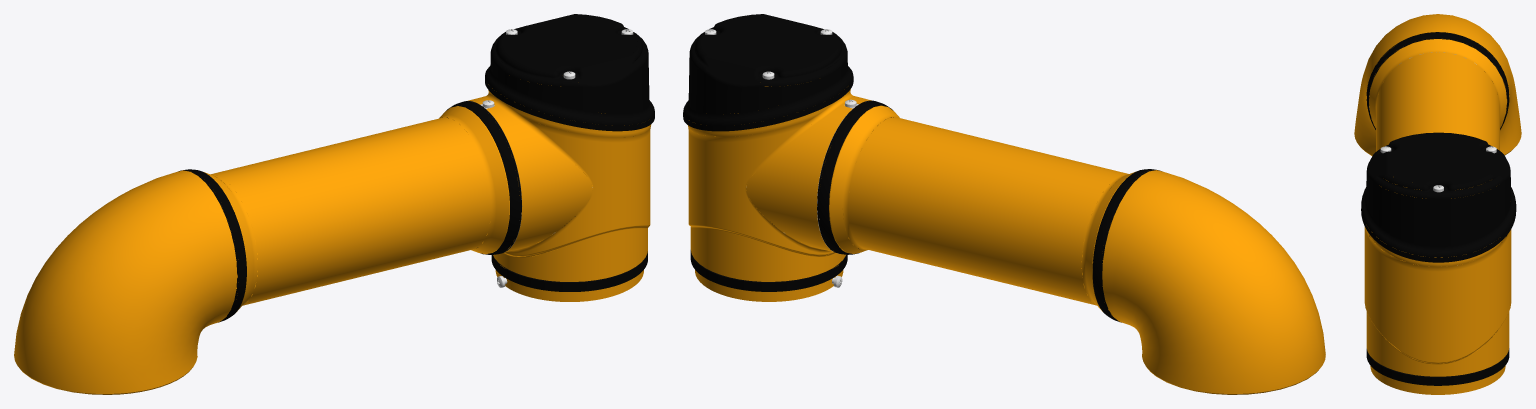
The model's file is foreArm_Link.DAE.
3 renders of one model, left to right at view 1: azimuth 30°, elevation 25°; view 2: azimuth 150°, elevation 25°; view 3: azimuth 270°, elevation 25°, orthographic. The views are drawn at different scales.
Parts seen in each view (by area): view 1: NONE-DC_Shell_ncl1_4, NONE-DC_Shell_ncl1_6, NONE-DC_Shell_ncl1_3, NONE-DC_Shell_ncl1_14, NONE-DC_Shell_ncl1_15, NONE-DC_Shell_ncl1_13, NONE-DC_Shell_ncl1_16, NONE-DC_Shell_ncl1_5; view 2: NONE-DC_Shell_ncl1_4, NONE-DC_Shell_ncl1_6, NONE-DC_Shell_ncl1_3, NONE-DC_Shell_ncl1_14, NONE-DC_Shell_ncl1_15, NONE-DC_Shell_ncl1_13, NONE-DC_Shell_ncl1_16, NONE-DC_Shell_ncl1_5; view 3: NONE-DC_Shell_ncl1_3, NONE-DC_Shell_ncl1_14, NONE-DC_Shell_ncl1_4, NONE-DC_Shell_ncl1_6, NONE-DC_Shell_ncl1_13, NONE-DC_Shell_ncl1_16, NONE-DC_Shell_ncl1_5.
Boxes of the visible parts, x1=… form: NONE-DC_Shell_ncl1_4: x1=204, y1=106, x2=509, y2=316; NONE-DC_Shell_ncl1_6: x1=14, y1=170, x2=237, y2=394; NONE-DC_Shell_ncl1_3: x1=454, y1=84, x2=651, y2=281; NONE-DC_Shell_ncl1_14: x1=485, y1=14, x2=654, y2=131; NONE-DC_Shell_ncl1_15: x1=442, y1=101, x2=521, y2=254; NONE-DC_Shell_ncl1_13: x1=491, y1=216, x2=647, y2=291; NONE-DC_Shell_ncl1_16: x1=178, y1=169, x2=246, y2=322; NONE-DC_Shell_ncl1_5: x1=495, y1=234, x2=643, y2=301; NONE-DC_Shell_ncl1_4: x1=829, y1=105, x2=1134, y2=314; NONE-DC_Shell_ncl1_6: x1=1102, y1=170, x2=1325, y2=394; NONE-DC_Shell_ncl1_3: x1=688, y1=84, x2=885, y2=281; NONE-DC_Shell_ncl1_14: x1=683, y1=14, x2=853, y2=131; NONE-DC_Shell_ncl1_15: x1=817, y1=100, x2=893, y2=254; NONE-DC_Shell_ncl1_13: x1=690, y1=223, x2=847, y2=291; NONE-DC_Shell_ncl1_16: x1=1092, y1=169, x2=1161, y2=322; NONE-DC_Shell_ncl1_5: x1=695, y1=234, x2=843, y2=301; NONE-DC_Shell_ncl1_3: x1=1364, y1=180, x2=1511, y2=376; NONE-DC_Shell_ncl1_14: x1=1361, y1=132, x2=1516, y2=262; NONE-DC_Shell_ncl1_4: x1=1369, y1=39, x2=1506, y2=264; NONE-DC_Shell_ncl1_6: x1=1354, y1=14, x2=1521, y2=155; NONE-DC_Shell_ncl1_13: x1=1366, y1=336, x2=1509, y2=385; NONE-DC_Shell_ncl1_16: x1=1366, y1=32, x2=1509, y2=129; NONE-DC_Shell_ncl1_5: x1=1370, y1=338, x2=1505, y2=394.
Size of the model in its own units: 341 by 87.87 by 120.
